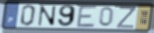0: (19, 4, 37, 28), (98, 6, 116, 28)
9: (57, 4, 79, 29)
E: (75, 5, 98, 29)
N: (37, 5, 57, 27)
Z: (116, 6, 137, 29)
